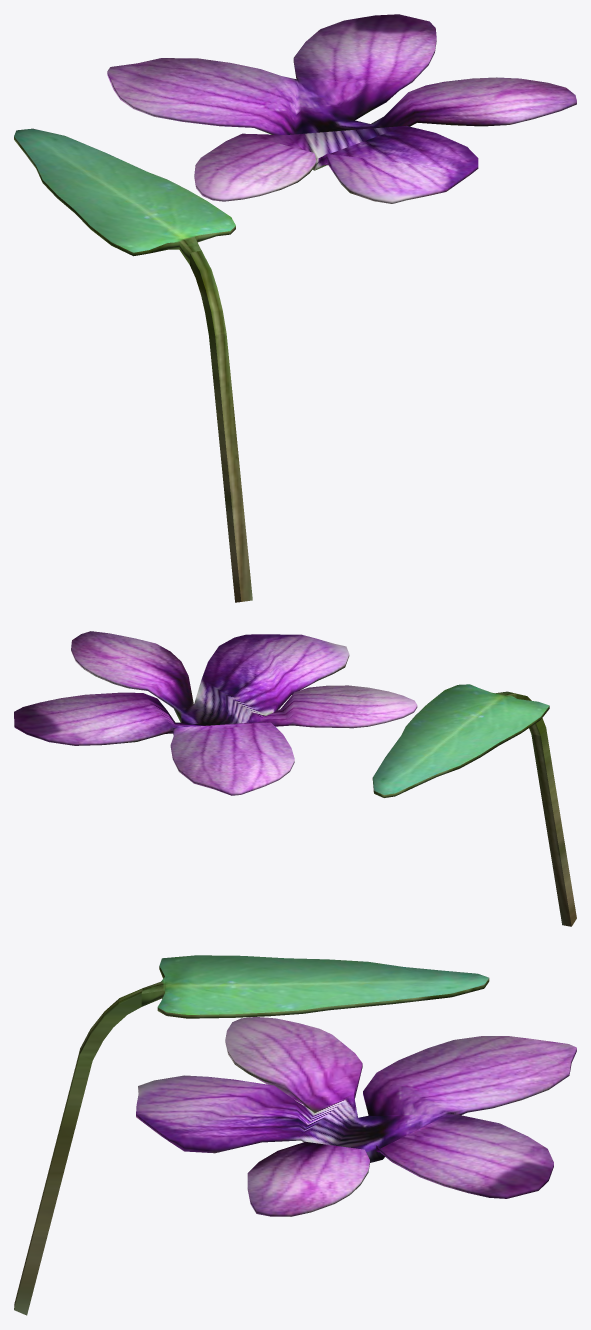
The model's file is zihuadiding.FBX.
3 renders of one model, top to bottom at view 1: azimuth 30°, elevation 25°; view 2: azimuth 150°, elevation 25°; view 3: azimuth 270°, elevation 25°, orthographic. The views are drawn at different scales.
Parts seen in each view (by area): view 1: Line003, Line002; view 2: Line003, Line002; view 3: Line003, Line002.
Part boxes in pixels (x1,y1,x2,y2): Line003: [107, 14, 576, 203]; Line002: [14, 128, 252, 602]; Line003: [14, 631, 417, 795]; Line002: [372, 684, 576, 926]; Line003: [136, 1017, 576, 1216]; Line002: [14, 955, 489, 1315].
Bounding box in the file's own units: 302 × 181 × 279.
Materials: 1 (1 with a texture image).
